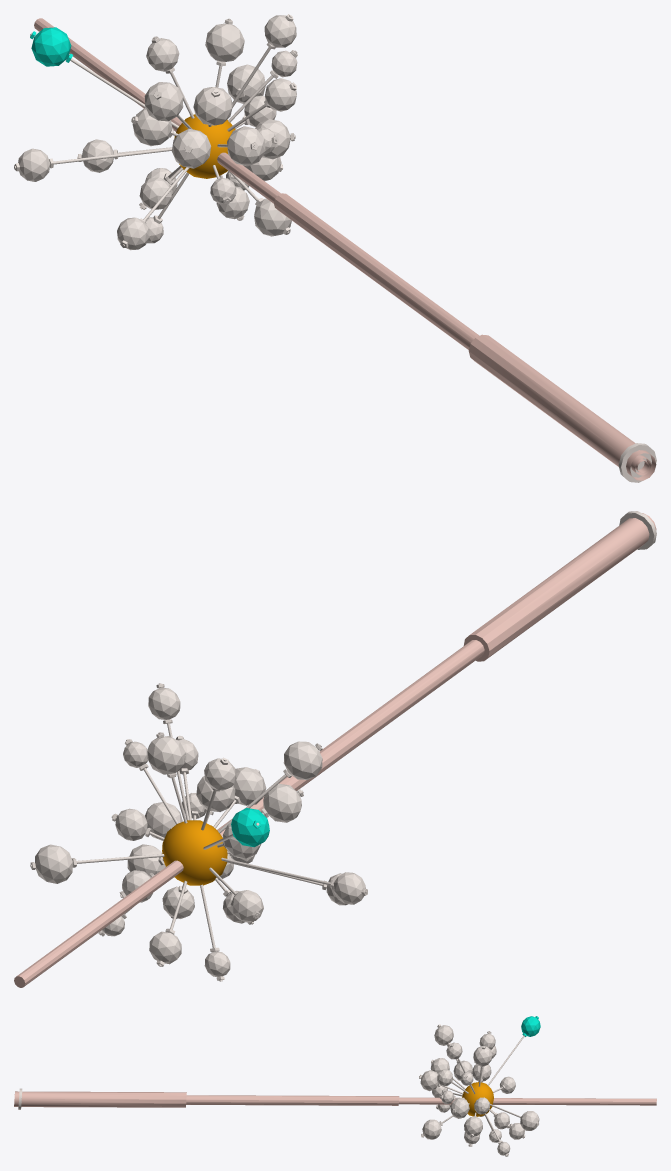
File: branch.01.glb
3 renders of one model, top to bottom at view 1: azimuth 30°, elevation 25°; view 2: azimuth 150°, elevation 25°; view 3: azimuth 270°, elevation 25°, orthographic. The views are drawn at different scales.
Visible parts, largest first — view 1: MET-59_3D-Model.17350, MET-59_3D-Model.17351, MET-59_3D-Model.17349, MET-59_3D-Model.17352; view 2: MET-59_3D-Model.17350, MET-59_3D-Model.17351, MET-59_3D-Model.17349; view 3: MET-59_3D-Model.17351, MET-59_3D-Model.17350, MET-59_3D-Model.17349.
Part boxes in pixels (x1=…): MET-59_3D-Model.17350: x1=14, y1=14, x2=297, y2=250; MET-59_3D-Model.17351: x1=34, y1=18, x2=656, y2=480; MET-59_3D-Model.17349: x1=174, y1=114, x2=235, y2=178; MET-59_3D-Model.17352: x1=618, y1=443, x2=656, y2=482; MET-59_3D-Model.17350: x1=30, y1=683, x2=367, y2=981; MET-59_3D-Model.17351: x1=14, y1=513, x2=656, y2=987; MET-59_3D-Model.17349: x1=162, y1=820, x2=227, y2=885; MET-59_3D-Model.17351: x1=14, y1=1091, x2=656, y2=1107; MET-59_3D-Model.17350: x1=419, y1=1016, x2=540, y2=1156; MET-59_3D-Model.17349: x1=462, y1=1082, x2=493, y2=1116.
Bounding box in the file's own units: 0.1977 × 0.1556 × 0.7269.
